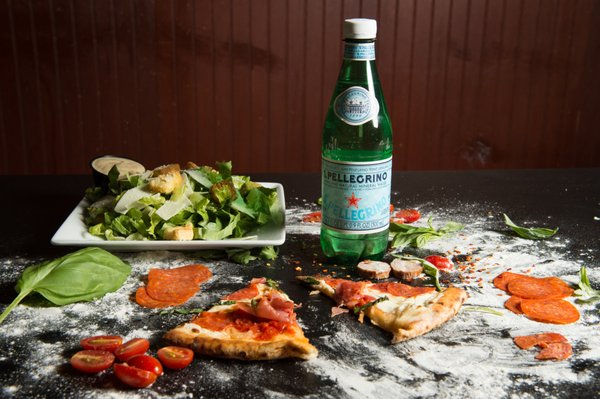burger: (319, 19, 394, 266)
